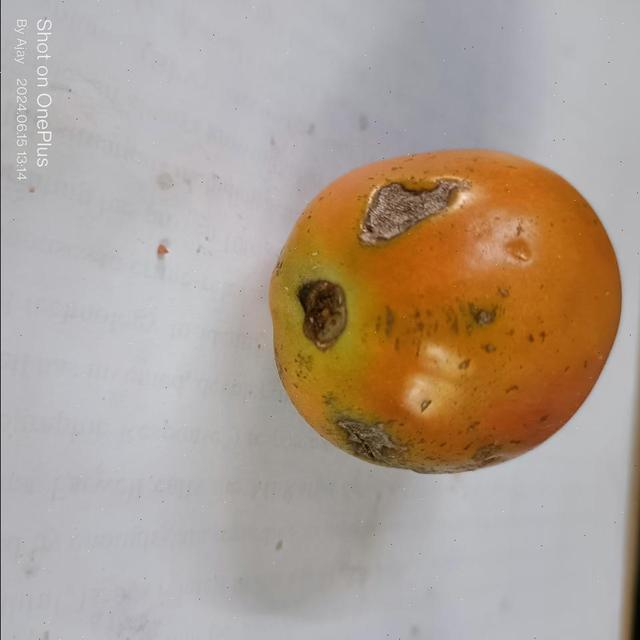Bacterial Spot Fruit: (59, 29, 294, 291)
